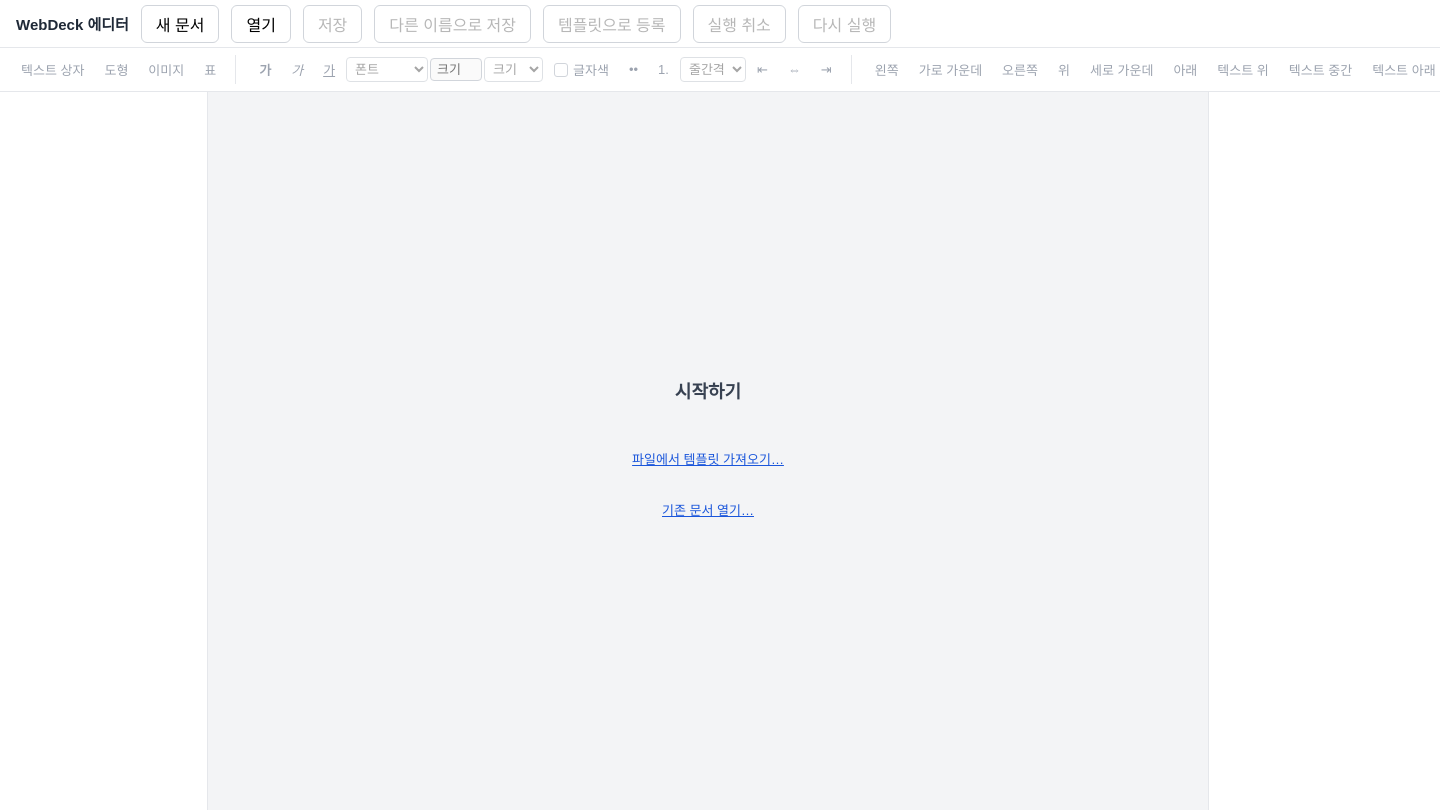
Scenario: 문서를 열면 캔버스·패널·opaque 배지가 나타난다
This screenshot has width=1452, height=810.
Click the button "열기" at coordinates (261, 24), box left=231, top=4, right=291, bottom=42
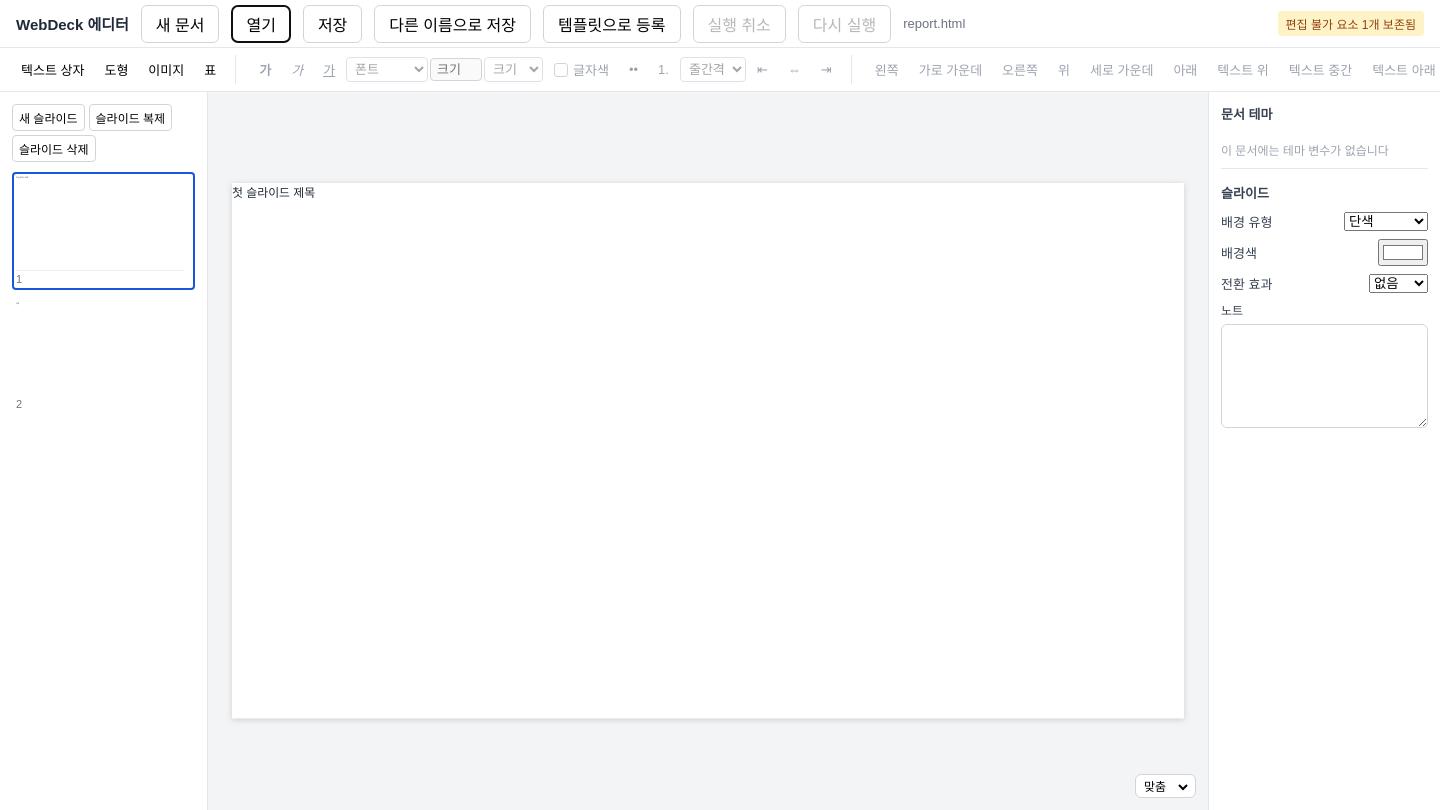
Now the text "report.html" is shown, box left=903, top=16, right=965, bottom=31
Now the number of buttons "첫 슬라이드 제목 1" is 2, box left=12, top=172, right=195, bottom=290; left=12, top=298, right=195, bottom=415
Now the text "편집 불가 요소 1개 보존됨" is shown, box left=1278, top=11, right=1424, bottom=36
